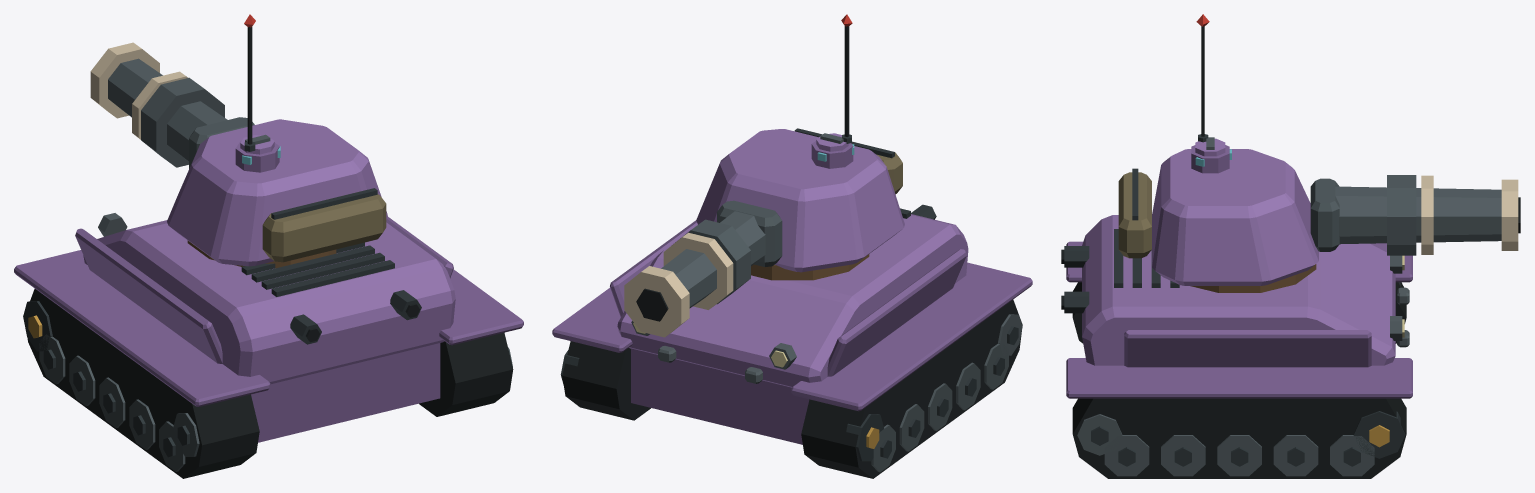
The picture shows the model from 3 angles, left to right: view 1: azimuth 30°, elevation 25°; view 2: azimuth 150°, elevation 25°; view 3: azimuth 270°, elevation 25°; orthographic projection. The views are drawn at different scales.
Visible parts, largest first — view 1: hull_03, turret_03; view 2: hull_03, turret_03; view 3: hull_03, turret_03.
Boxes of the visible parts, x1=… form: hull_03: x1=14, y1=213, x2=523, y2=478; turret_03: x1=90, y1=14, x2=388, y2=268; hull_03: x1=552, y1=204, x2=1032, y2=478; turret_03: x1=624, y1=14, x2=904, y2=337; hull_03: x1=1061, y1=215, x2=1412, y2=478; turret_03: x1=1118, y1=14, x2=1520, y2=292.
Size of the model in its own units: 0.855 by 0.9938 by 1.1.
